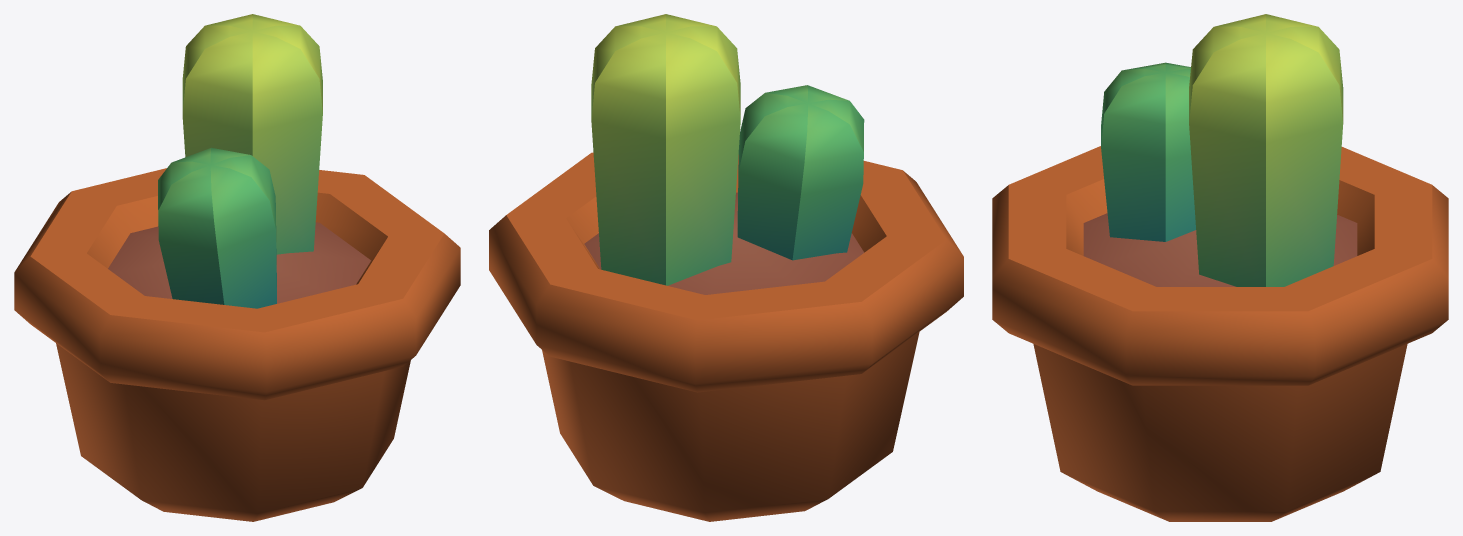
The model's file is cactus-small-b.glb.
The picture shows the model from 3 angles, left to right: view 1: azimuth 30°, elevation 25°; view 2: azimuth 150°, elevation 25°; view 3: azimuth 270°, elevation 25°; orthographic projection. The views are drawn at different scales.
Parts seen in each view (by area): view 1: cactus_small_B; view 2: cactus_small_B; view 3: cactus_small_B.
Part boxes in pixels (box(x1,y1,x2,y2)): cactus_small_B: box(14, 14, 460, 521); cactus_small_B: box(489, 14, 963, 521); cactus_small_B: box(992, 14, 1448, 521).
Bounding box in the file's own units: 0.5 × 0.5516 × 0.5.
